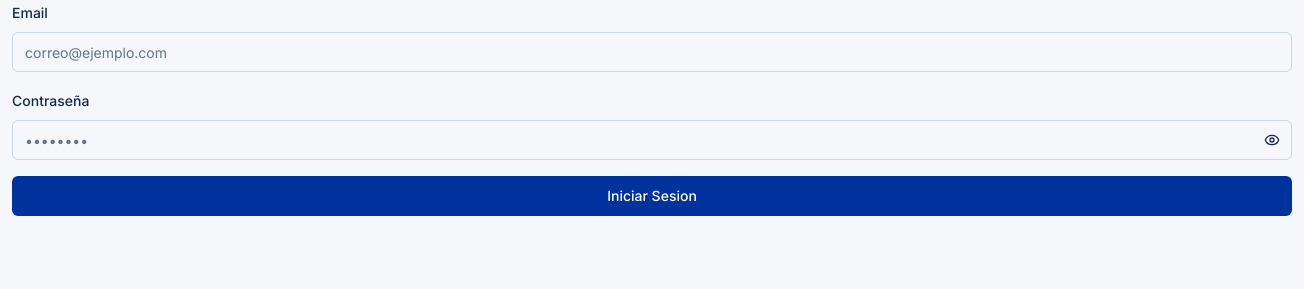
Test: LoginForm › validation › should show error for empty email
Click the button "Iniciar Sesion" at (652, 196), box x1=12 y1=176 x2=1292 y2=216
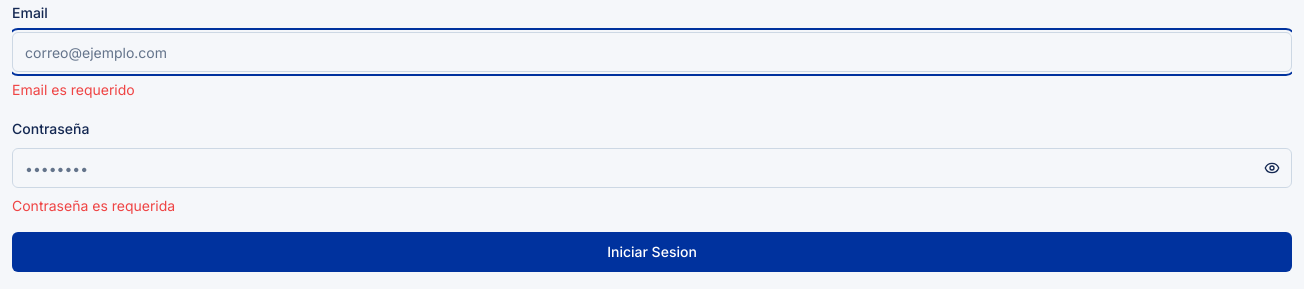
Check: the text "Email es requerido" is shown, box x1=12 y1=81 x2=135 y2=98
